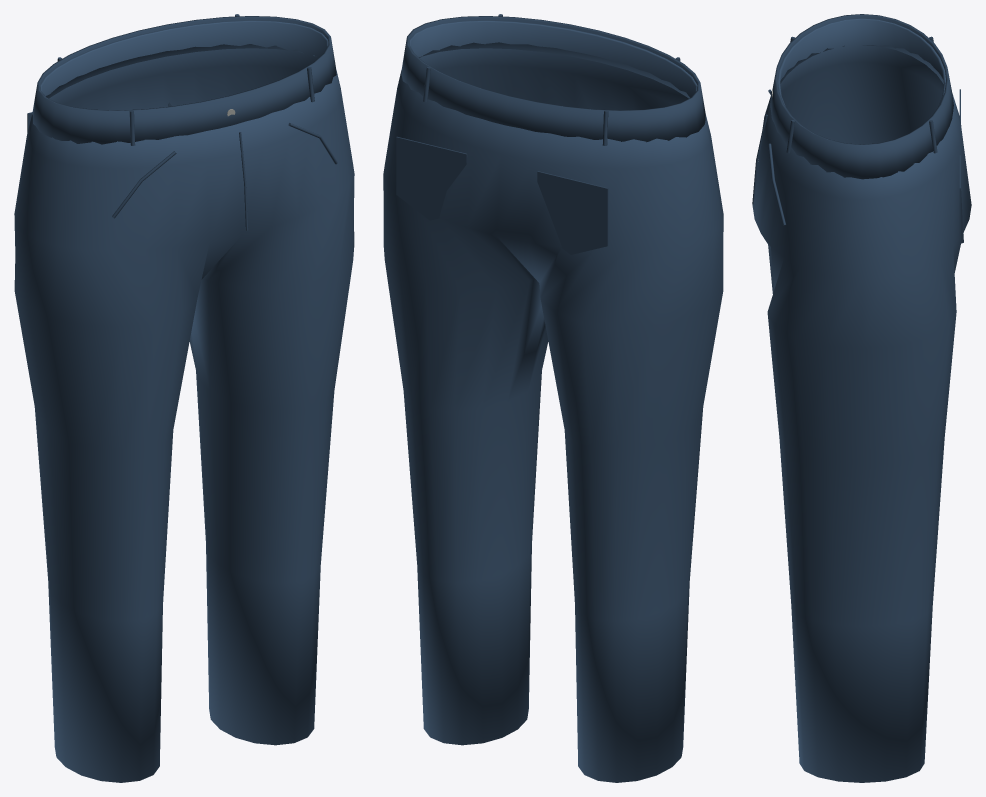
File: pants_slim_jeans.glb
The picture shows the model from 3 angles, left to right: view 1: azimuth 30°, elevation 25°; view 2: azimuth 150°, elevation 25°; view 3: azimuth 270°, elevation 25°; orthographic projection. The views are drawn at different scales.
Visible parts, largest first — view 1: Slim_Jeans_Connected_Hips_And_Legs, Slim_Jeans_Waistband; view 2: Slim_Jeans_Connected_Hips_And_Legs, Slim_Jeans_Waistband, Slim_Jeans_Back_Pocket, Slim_Jeans_Back_Pocket.001; view 3: Slim_Jeans_Connected_Hips_And_Legs, Slim_Jeans_Waistband.
Part boxes in pixels (box(x1,y1,x2,y2)): Slim_Jeans_Connected_Hips_And_Legs: box(14, 20, 354, 782); Slim_Jeans_Waistband: box(32, 16, 336, 144); Slim_Jeans_Connected_Hips_And_Legs: box(383, 20, 723, 782); Slim_Jeans_Waistband: box(401, 16, 705, 142); Slim_Jeans_Back_Pocket: box(537, 171, 608, 254); Slim_Jeans_Back_Pocket.001: box(396, 136, 467, 220); Slim_Jeans_Connected_Hips_And_Legs: box(752, 18, 971, 782); Slim_Jeans_Waistband: box(770, 14, 953, 179).
Bounding box in the file's own units: 0.4781 × 0.9615 × 0.2948.
